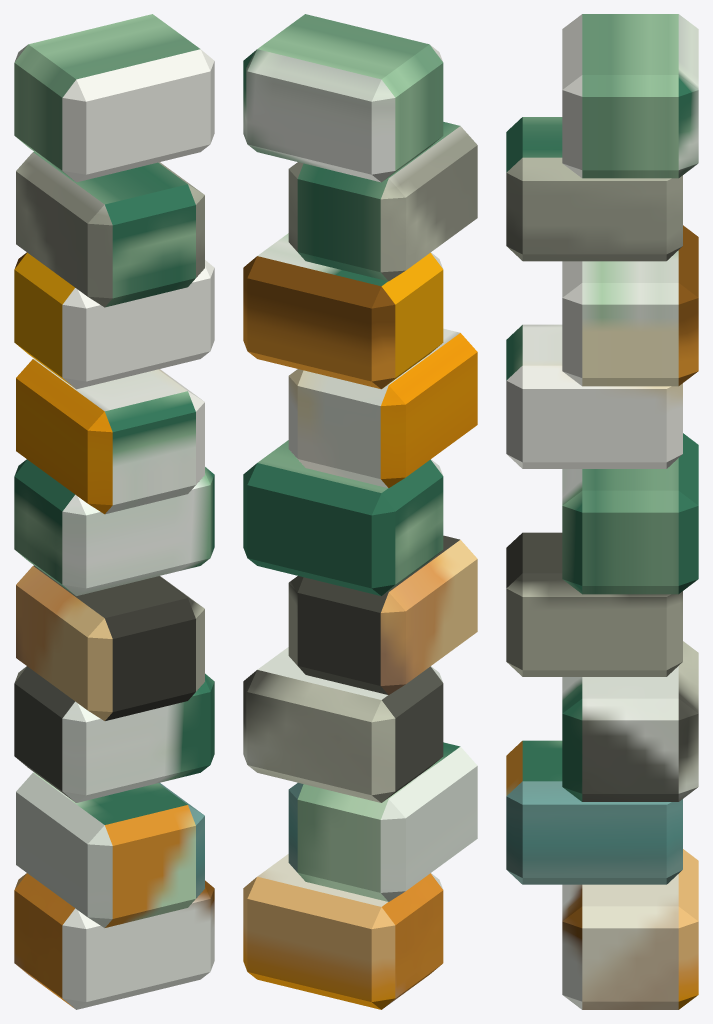
File: RockBridgeSideRocks.fbx
3 renders of one model, left to right at view 1: azimuth 30°, elevation 25°; view 2: azimuth 150°, elevation 25°; view 3: azimuth 270°, elevation 25°, orthographic.
Visible parts, largest first — view 1: RockBridgeSideRocks; view 2: RockBridgeSideRocks; view 3: RockBridgeSideRocks.
Part boxes in pixels (x1=…): RockBridgeSideRocks: x1=14, y1=14, x2=214, y2=1009; RockBridgeSideRocks: x1=243, y1=14, x2=477, y2=1009; RockBridgeSideRocks: x1=506, y1=14, x2=698, y2=1009.
Size of the model in its own units: 1.21 by 6.89 by 1.28.
